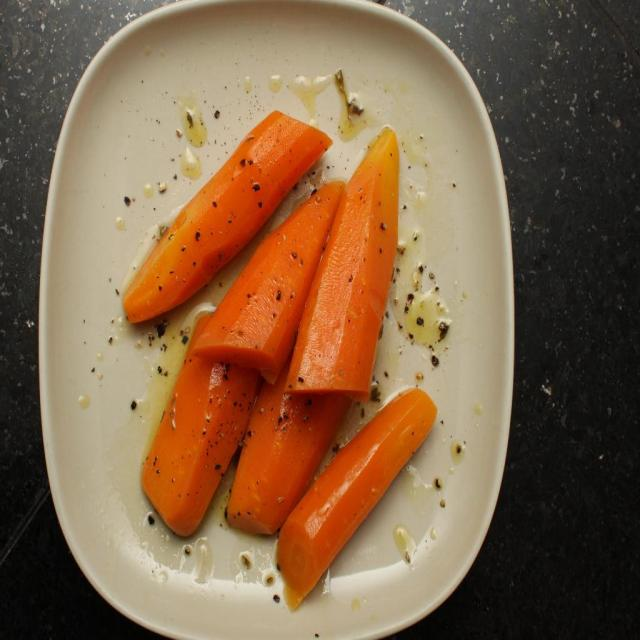carrot: (139, 129, 438, 612), (121, 109, 332, 323), (274, 397, 437, 608)
